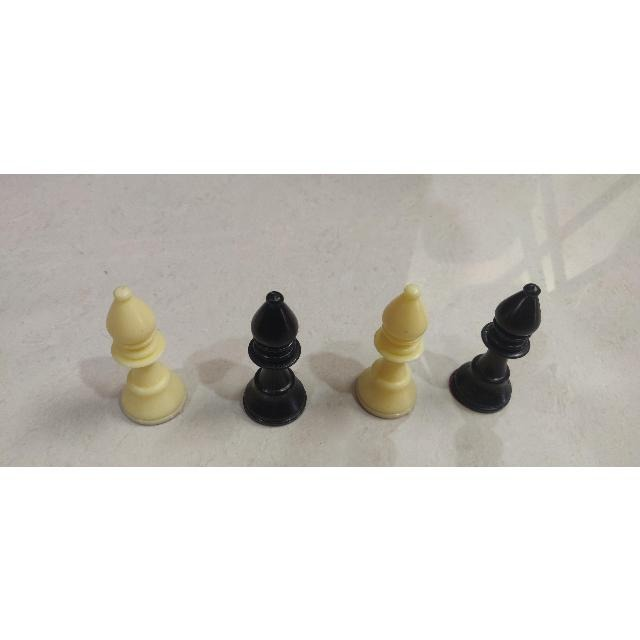black-bishop: (442, 282, 547, 425), (236, 287, 313, 432)
white-bishop: (100, 283, 195, 427), (349, 279, 435, 422)
